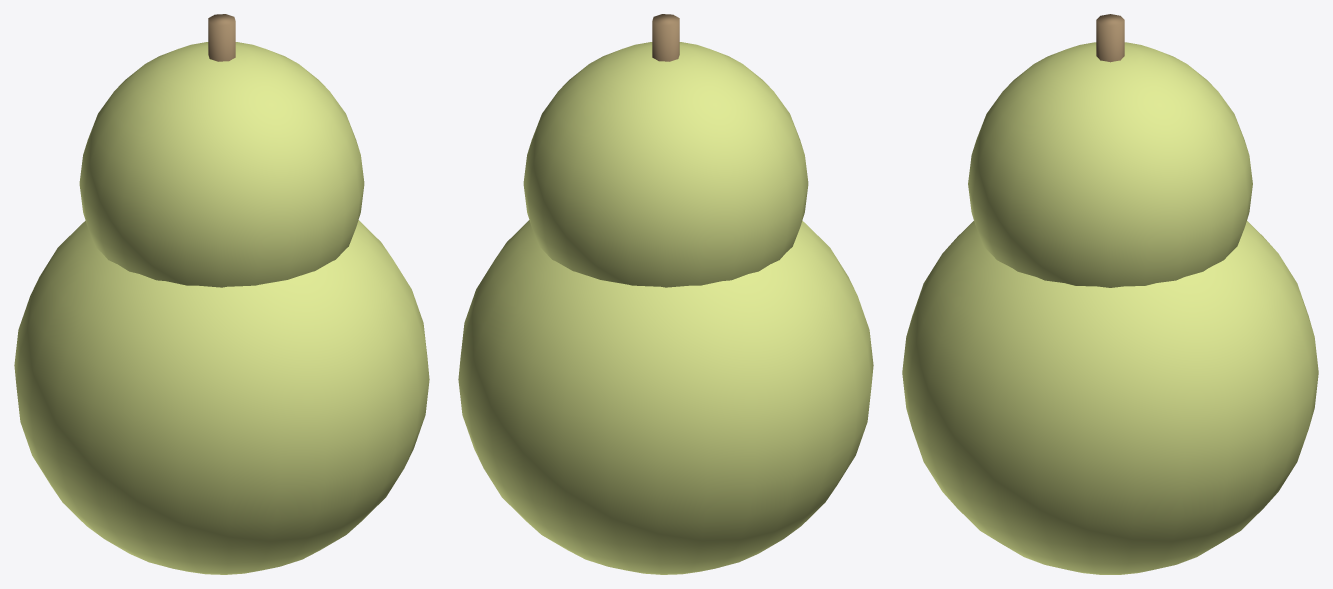
The model's file is Pear.glb.
3 views of the same model, side by side, from view 1: azimuth 30°, elevation 25°; view 2: azimuth 150°, elevation 25°; view 3: azimuth 270°, elevation 25° (orthographic).
Visible parts, largest first — view 1: Pear; view 2: Pear; view 3: Pear.
Boxes of the visible parts, x1,y1,x2,y2 form: Pear: (14, 14, 429, 574); Pear: (458, 14, 873, 574); Pear: (902, 14, 1318, 574).
Bounding box in the file's own units: 0.7545 × 1.08 × 0.76.
